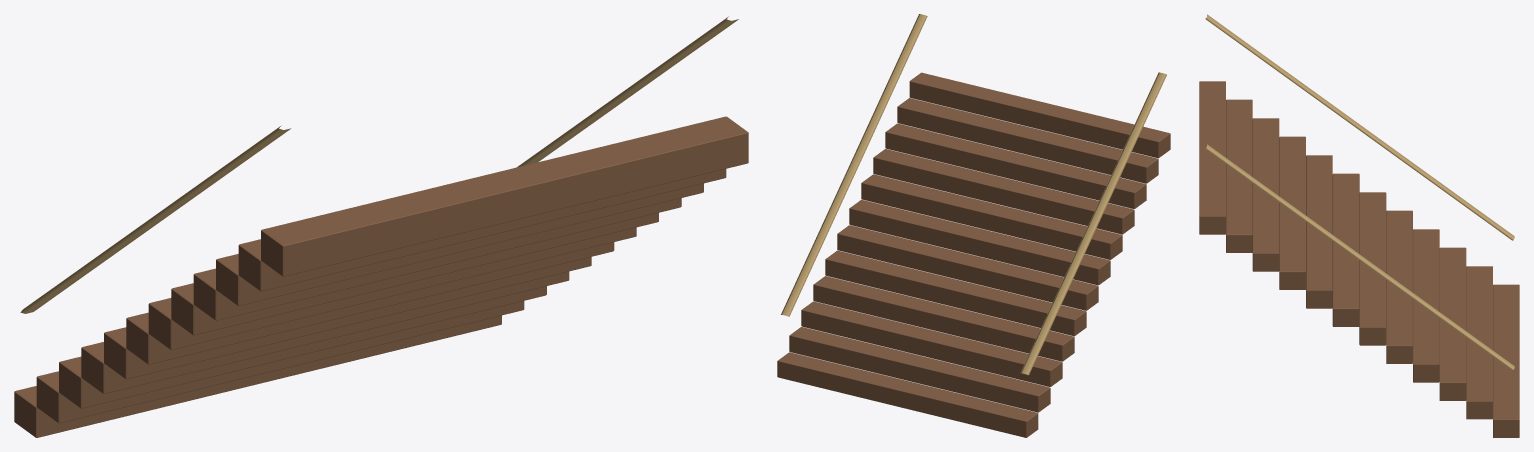
File: stairs-18-2.glb
3 views of the same model, side by side, from view 1: azimuth 30°, elevation 25°; view 2: azimuth 150°, elevation 25°; view 3: azimuth 270°, elevation 25° (orthographic). The views are drawn at different scales.
Parts seen in each view (by area): view 1: tread, part; view 2: tread, part; view 3: tread, part.
Part boxes in pixels (box(x1,y1,x2,y2)): tread: box(14, 116, 748, 437); part: box(20, 16, 738, 313); tread: box(777, 72, 1170, 437); part: box(781, 14, 1166, 375); tread: box(1199, 81, 1519, 437); part: box(1205, 14, 1514, 370).
Size of the model in its own units: 1 by 1 by 1.
